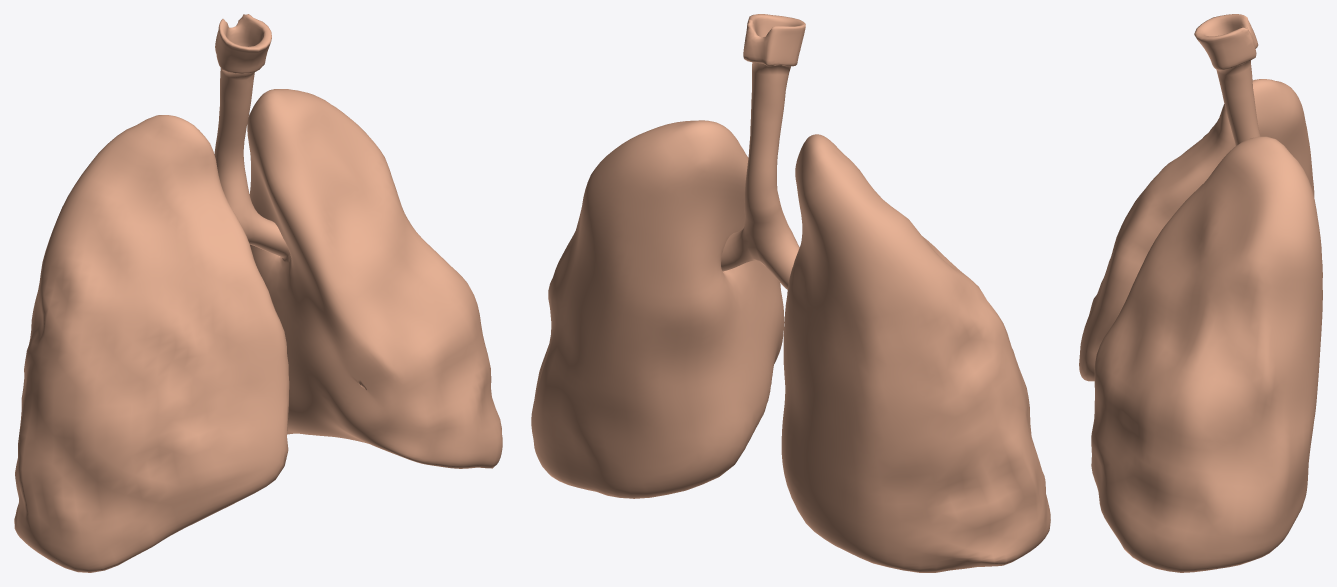
The model's file is pulmones1.fbx.
3 renders of one model, left to right at view 1: azimuth 30°, elevation 25°; view 2: azimuth 150°, elevation 25°; view 3: azimuth 270°, elevation 25°, orthographic. The views are drawn at different scales.
Visible parts, largest first — view 1: Mesh0; view 2: Mesh0; view 3: Mesh0.
Part boxes in pixels (<box>): Mesh0: <box>14,14,502,572</box>; Mesh0: <box>531,14,1050,572</box>; Mesh0: <box>1079,14,1322,572</box>.
Bounding box in the file's own units: 197 × 188 × 92.79.
